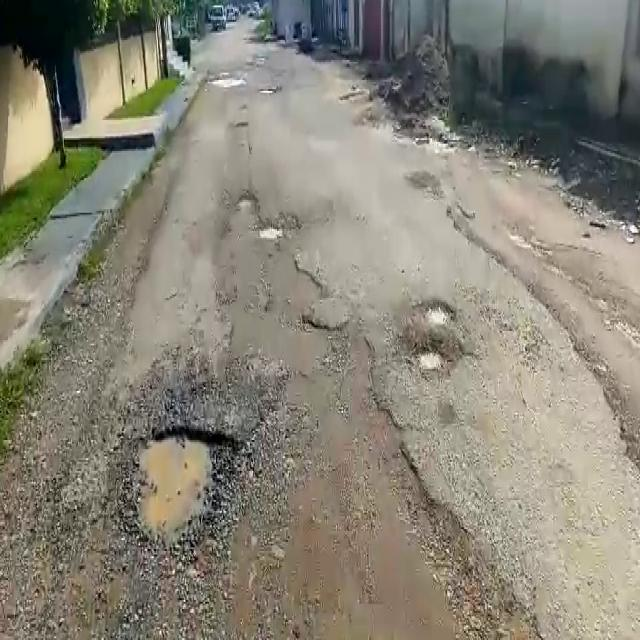Pothole: (128, 427, 240, 554), (420, 302, 450, 328), (417, 349, 442, 373), (259, 220, 283, 242), (236, 193, 256, 210)
